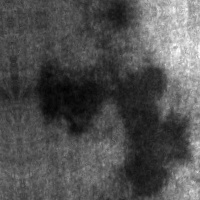patches: (108, 58, 195, 196), (34, 61, 115, 138)
